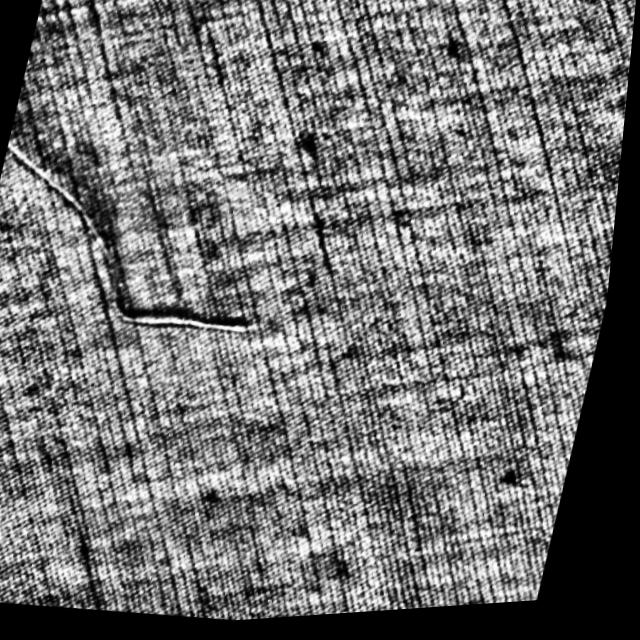Stitch: (0, 104, 308, 364)
